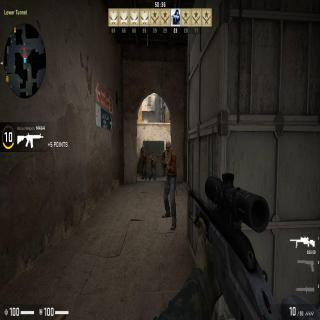T-Body: (162, 138, 178, 228), (139, 145, 147, 180), (148, 151, 156, 181)
T-Head: (165, 141, 171, 153), (151, 151, 154, 157), (142, 146, 144, 152)
